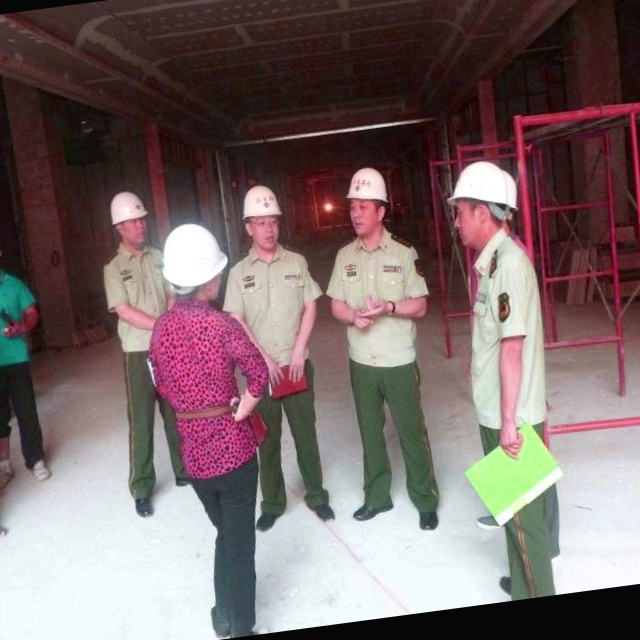Con_Casco: (157, 218, 233, 305), (343, 165, 394, 236), (238, 182, 289, 248)
